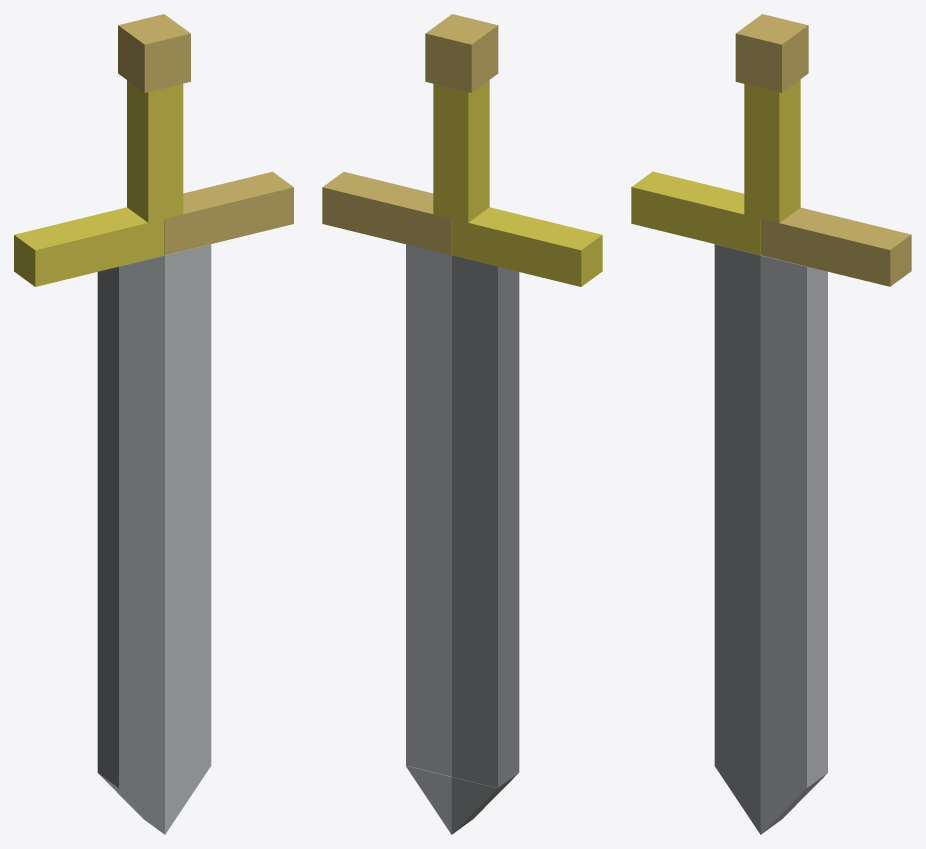
File: kingssword.glb
The picture shows the model from 3 angles, left to right: view 1: azimuth 30°, elevation 25°; view 2: azimuth 150°, elevation 25°; view 3: azimuth 330°, elevation 25°; orthographic projection.
Visible parts, largest first — view 1: Mesh_Mesh_head_geo.001_lambert2SG.001; view 2: Mesh_Mesh_head_geo.001_lambert2SG.001; view 3: Mesh_Mesh_head_geo.001_lambert2SG.001.
Part boxes in pixels (x1,y1,x2,y2): Mesh_Mesh_head_geo.001_lambert2SG.001: (14, 14, 293, 834); Mesh_Mesh_head_geo.001_lambert2SG.001: (322, 14, 602, 834); Mesh_Mesh_head_geo.001_lambert2SG.001: (631, 14, 911, 834).
Bounding box in the file's own units: 14.02 × 41.3 × 2.5.
